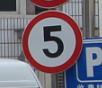speed_limit_5: (22, 11, 83, 73)
